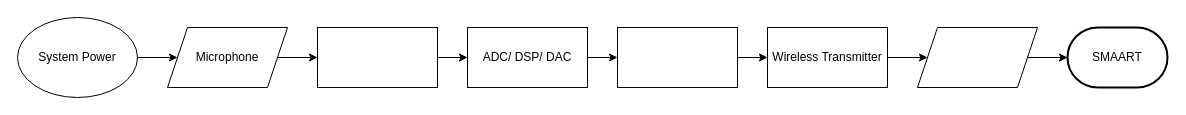
This 1186x115 diagram has some shape labels left out. Here are the shapes that lost their labels. From the top down, the centre of each, then its label:
point (377, 57): Analog Front-end
point (677, 57): Output Conditioning
point (977, 57): Wireless Reciever
